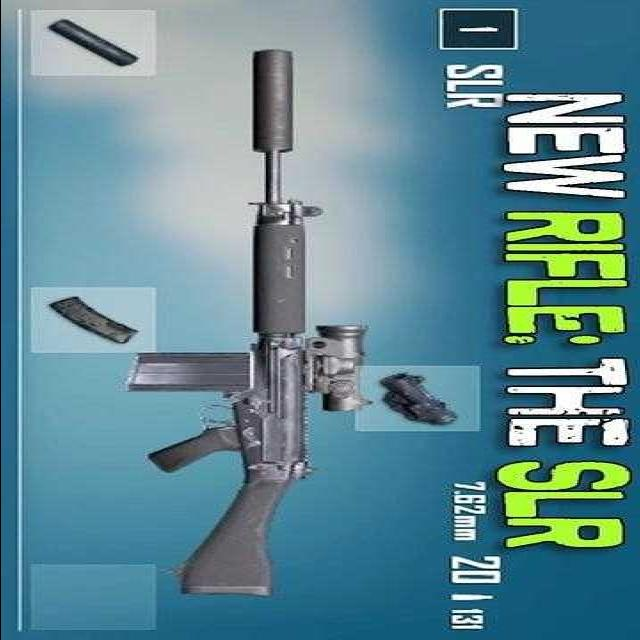heavyweapon: (143, 37, 344, 621)
